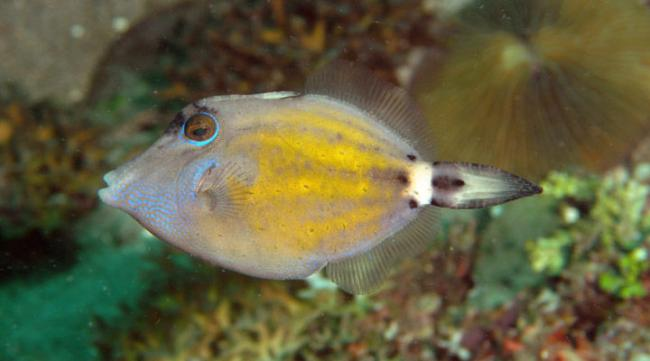fish: (98, 64, 545, 294)
